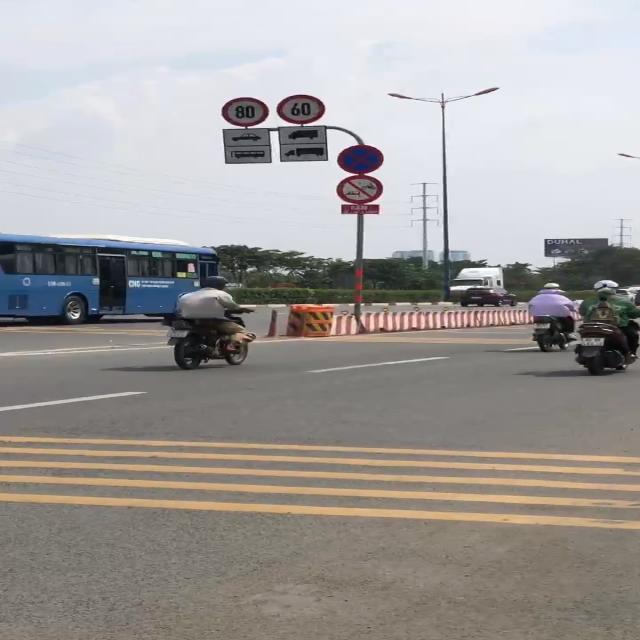Bien bao cam dung xe va do xe: (334, 143, 387, 176)
Bien bao toc do toi da cho phep: (275, 93, 331, 125), (220, 95, 272, 128)
